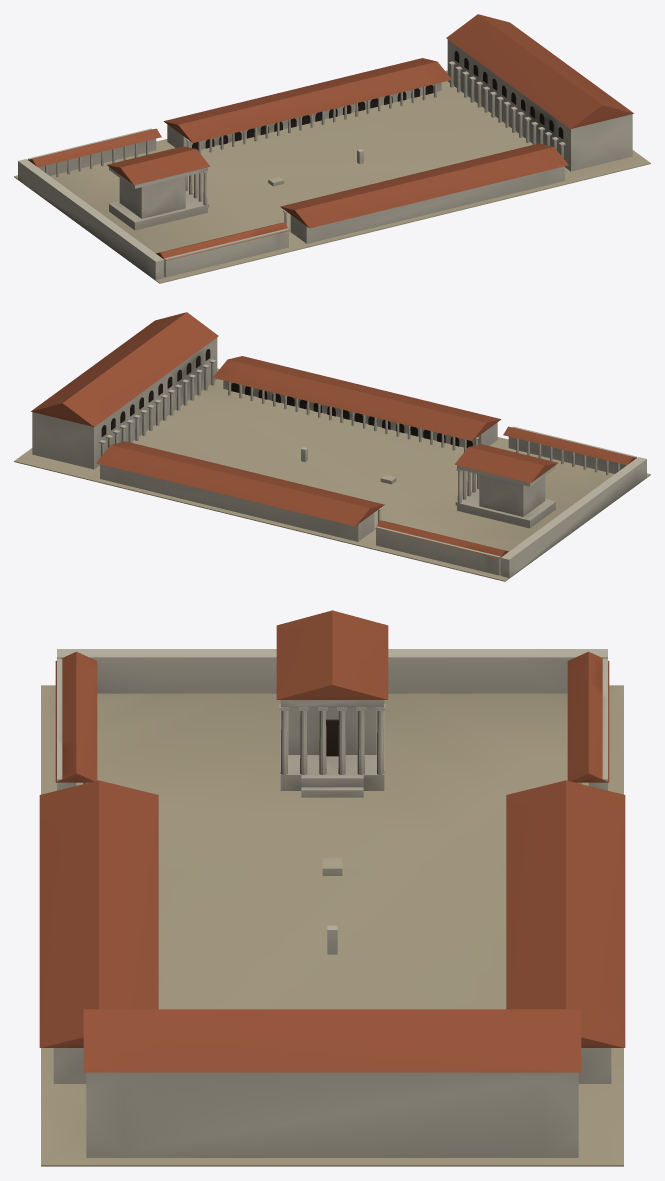
The model's file is forum.glb.
The picture shows the model from 3 angles, top to bottom: view 1: azimuth 30°, elevation 25°; view 2: azimuth 150°, elevation 25°; view 3: azimuth 270°, elevation 25°; orthographic projection. The views are drawn at different scales.
Parts seen in each view (by area): view 1: p0_square, p1_temple, p2_basilica; view 2: p0_square, p1_temple, p2_basilica; view 3: p0_square, p2_basilica, p1_temple.
Part boxes in pixels (x1,y1,x2,y2): p0_square: (14,58,650,283); p1_temple: (18,128,289,280); p2_basilica: (446,14,633,171); p0_square: (14,356,650,581); p1_temple: (375,426,646,577); p2_basilica: (31,312,218,469); p0_square: (39,685,625,1166); p2_basilica: (83,1009,581,1157); p1_temple: (55,610,609,797).
Size of the model in its own units: 175 by 20.5 by 90.4.
